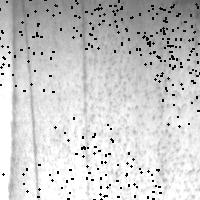pitted_surface: (87, 3, 200, 197), (139, 3, 197, 63), (112, 0, 172, 57), (54, 117, 112, 174), (0, 34, 52, 91), (99, 152, 159, 200), (72, 0, 131, 48), (153, 37, 200, 96), (49, 155, 109, 200), (162, 66, 200, 125), (44, 0, 104, 34), (0, 0, 37, 51), (0, 164, 38, 200)
